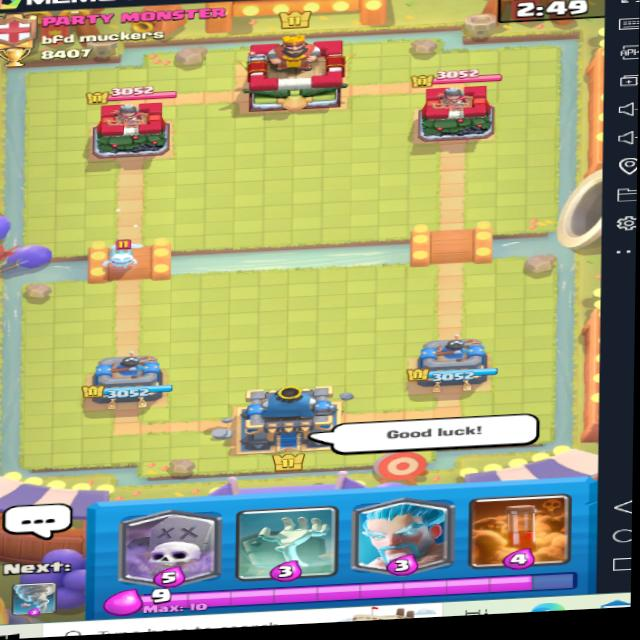Icespirit: (89, 236, 145, 271)
